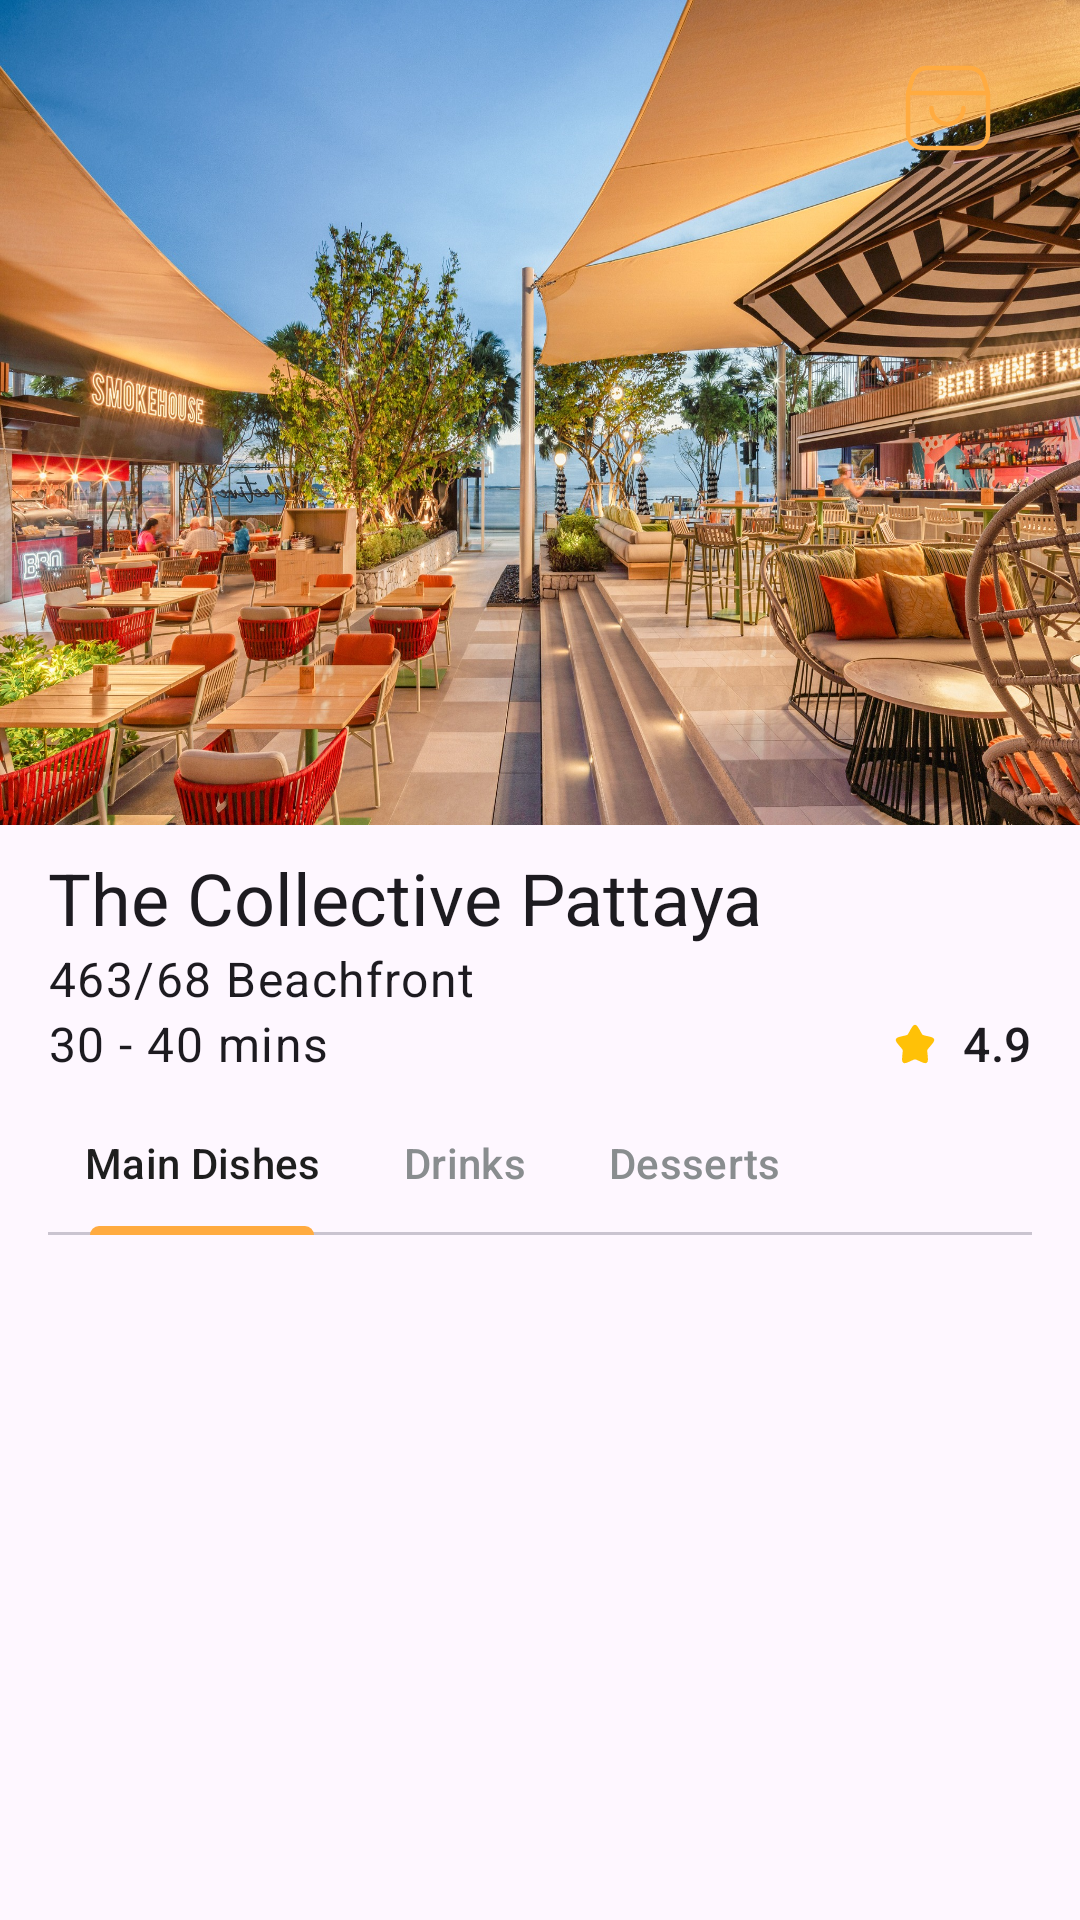

Where to tap for icons on this 1080×1920 app screen, as (x,y):
cart: (948,108)
star: (915,1044)
